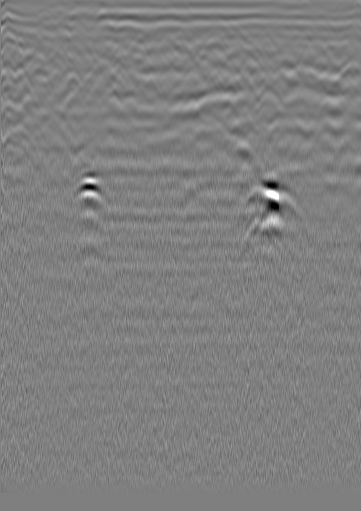가스: (68, 169, 108, 201)
상수: (328, 25, 348, 45)
오수: (19, 26, 39, 46)
우수: (183, 29, 203, 49)
